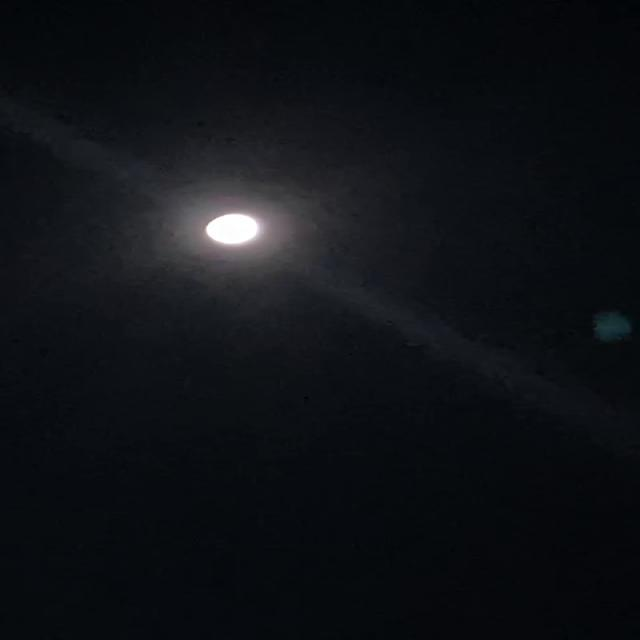moon: (191, 204, 282, 250)
